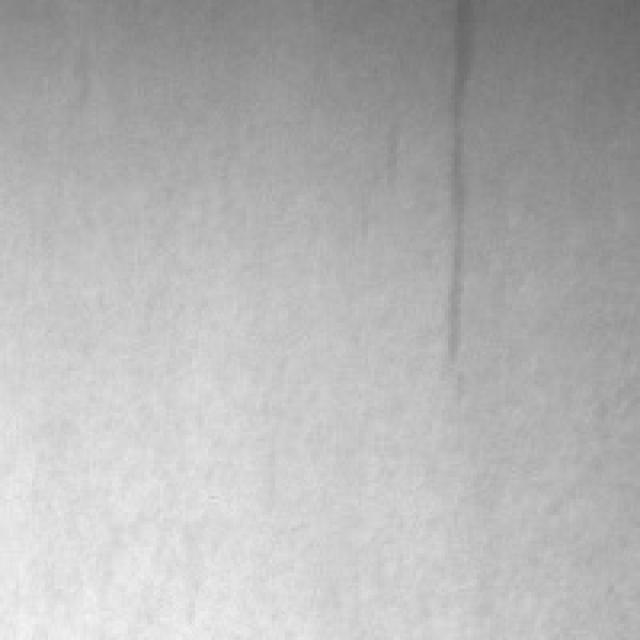inclusion: (422, 0, 493, 394)
